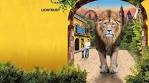lion: (88, 13, 129, 80)
